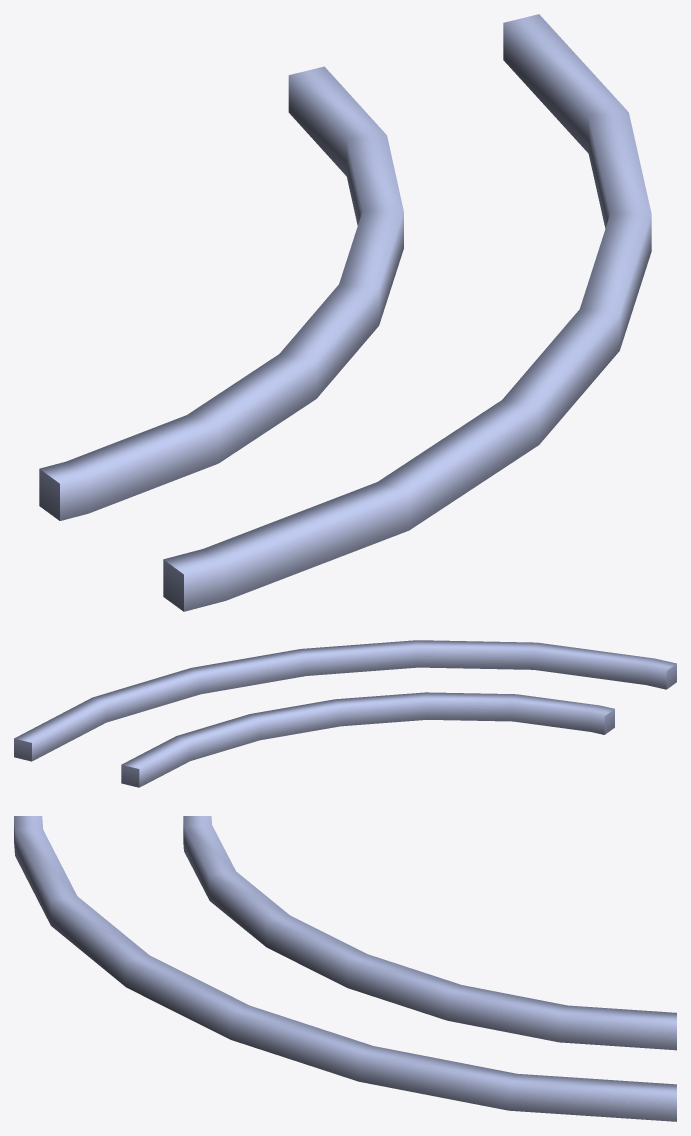
File: railroad-rail-corner-small.glb
3 renders of one model, top to bottom at view 1: azimuth 30°, elevation 25°; view 2: azimuth 150°, elevation 25°; view 3: azimuth 270°, elevation 25°, orthographic. The views are drawn at different scales.
Visible parts, largest first — view 1: railroad-rail-corner-small; view 2: railroad-rail-corner-small; view 3: railroad-rail-corner-small.
Boxes of the visible parts, x1,y1,x2,y2 form: railroad-rail-corner-small: (39,14,651,611); railroad-rail-corner-small: (14,640,676,787); railroad-rail-corner-small: (14,816,676,1121).
Size of the model in its own units: 2.35 by 0.1 by 2.35.
1 material, 1 textured.
